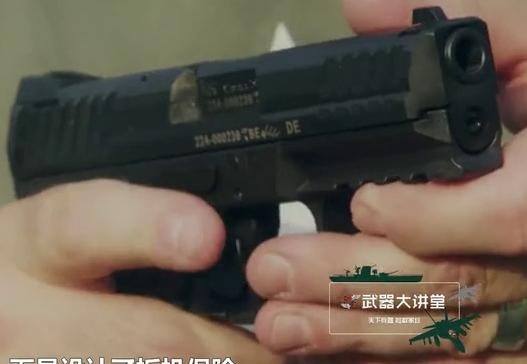gun: (1, 0, 527, 364)
